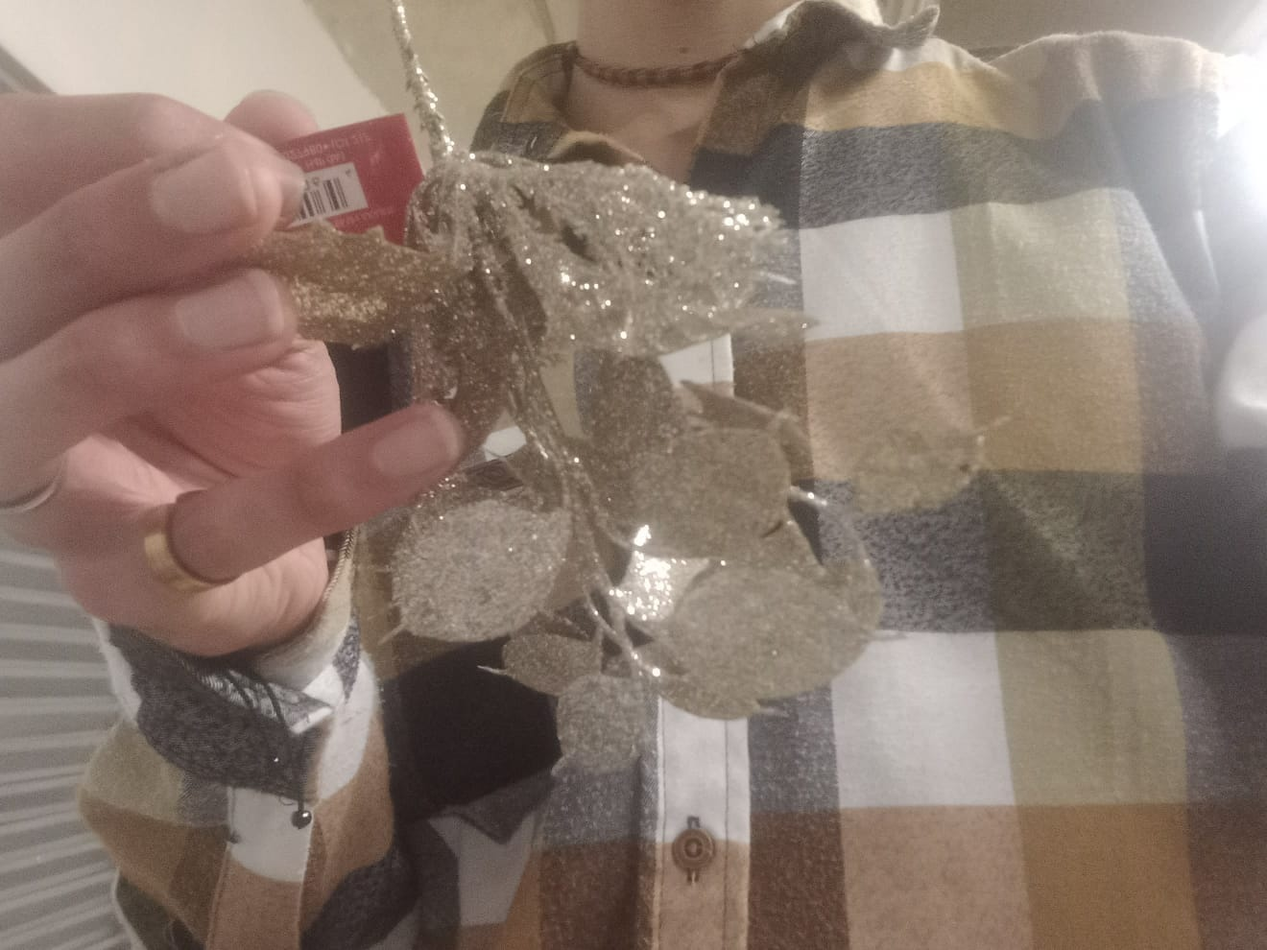Ordinario: (243, 150, 881, 779)
